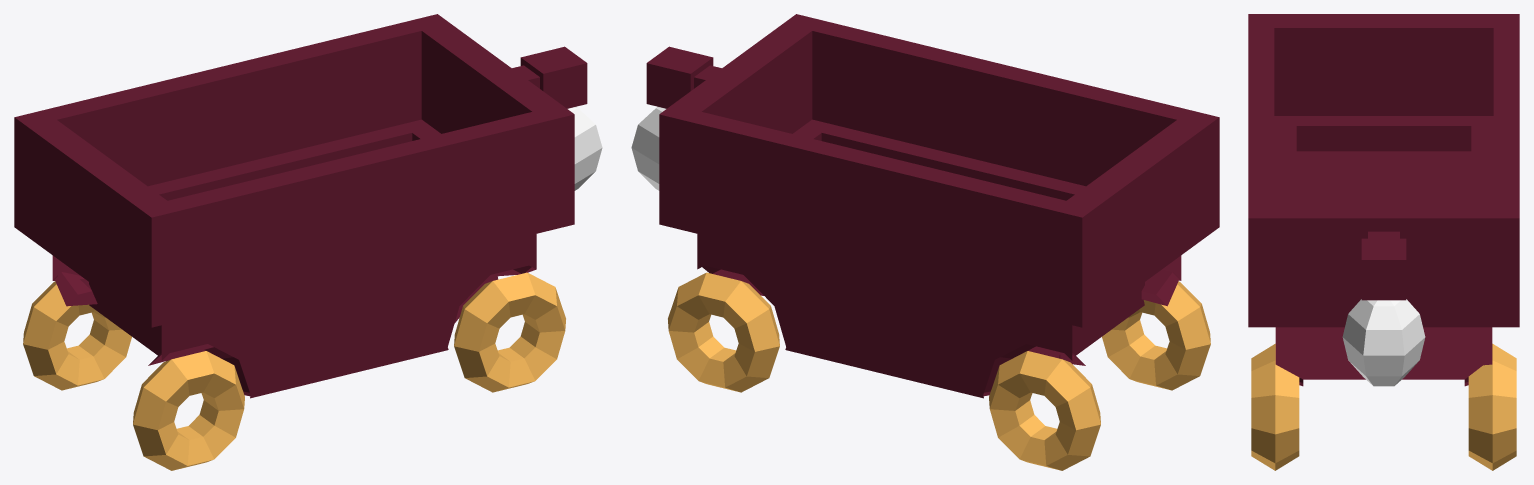
Rendered from Cart.fbx.
The picture shows the model from 3 angles, left to right: view 1: azimuth 30°, elevation 25°; view 2: azimuth 150°, elevation 25°; view 3: azimuth 270°, elevation 25°; orthographic projection.
Parts seen in each view (by area): view 1: Cart, Wheels, Wheels.001, Wheels.002, Light; view 2: Cart, Wheels.002, Wheels.003, Wheels, Light; view 3: Cart, Light, Wheels.003, Wheels.001.
Part boxes in pixels (x1,y1,x2,y2): Cart: [14, 14, 587, 398]; Wheels: [133, 351, 244, 470]; Wheels.001: [454, 272, 565, 392]; Wheels.002: [23, 281, 131, 390]; Light: [568, 107, 602, 190]; Cart: [646, 14, 1219, 398]; Wheels.002: [989, 351, 1100, 470]; Wheels.003: [668, 272, 779, 392]; Wheels: [1102, 281, 1210, 390]; Light: [631, 107, 665, 190]; Cart: [1248, 14, 1519, 386]; Light: [1342, 299, 1425, 386]; Wheels.003: [1468, 343, 1516, 470]; Wheels.001: [1251, 343, 1299, 470].
Bounding box in the file's own units: 715 × 361 × 331.
Materials: 1 (1 with a texture image).
